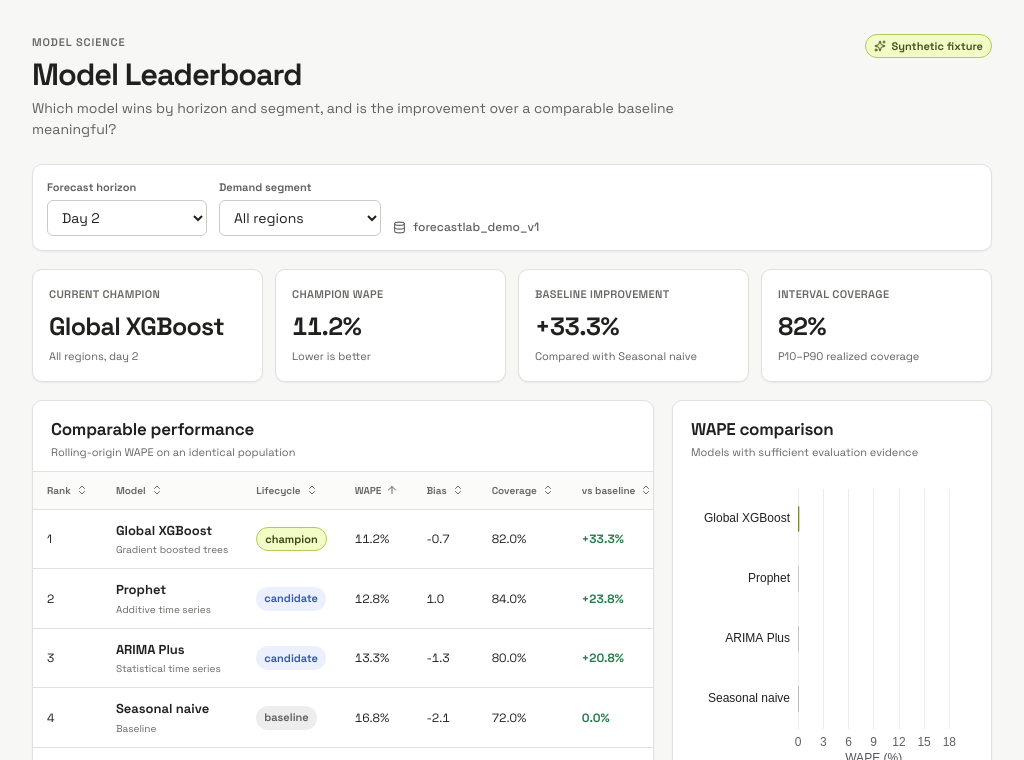
Test: ModelLeaderboardPage › stores filter changes in the URL and refreshes the evidence
The image size is (1024, 760).
Select "Day 4" in the dropdown labelled "Forecast horizon" at [127, 218], box [47,200,207,236]
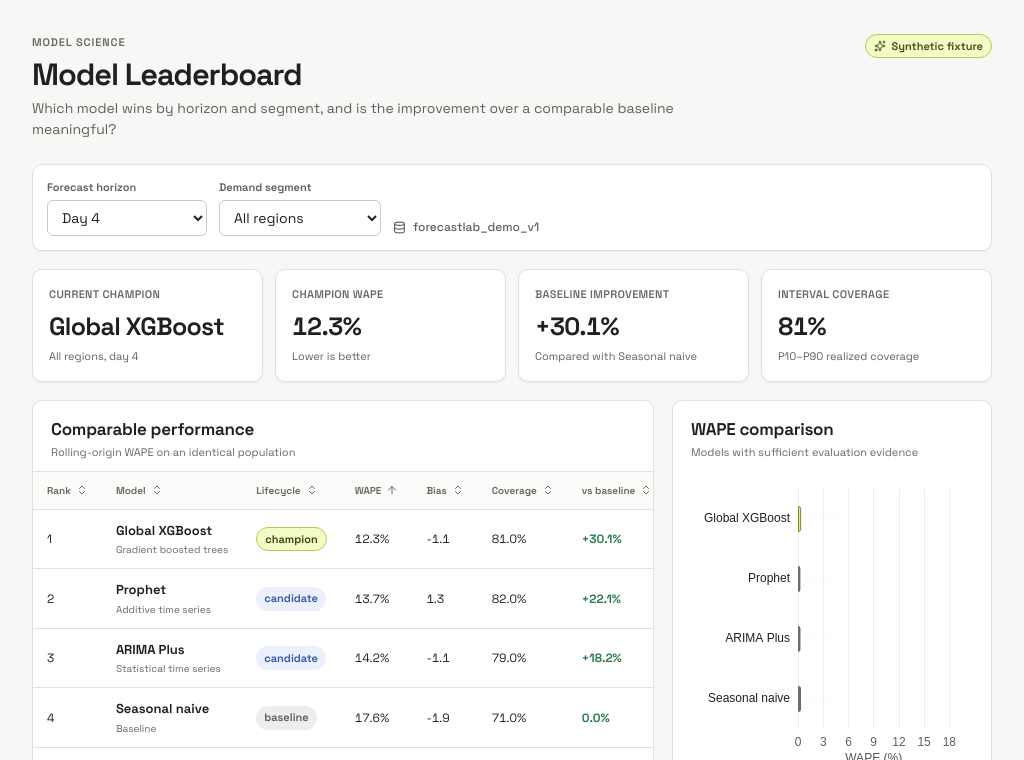
Select "Coastal region" in the dropdown labelled "Demand segment" at [300, 218], box [219,200,381,236]
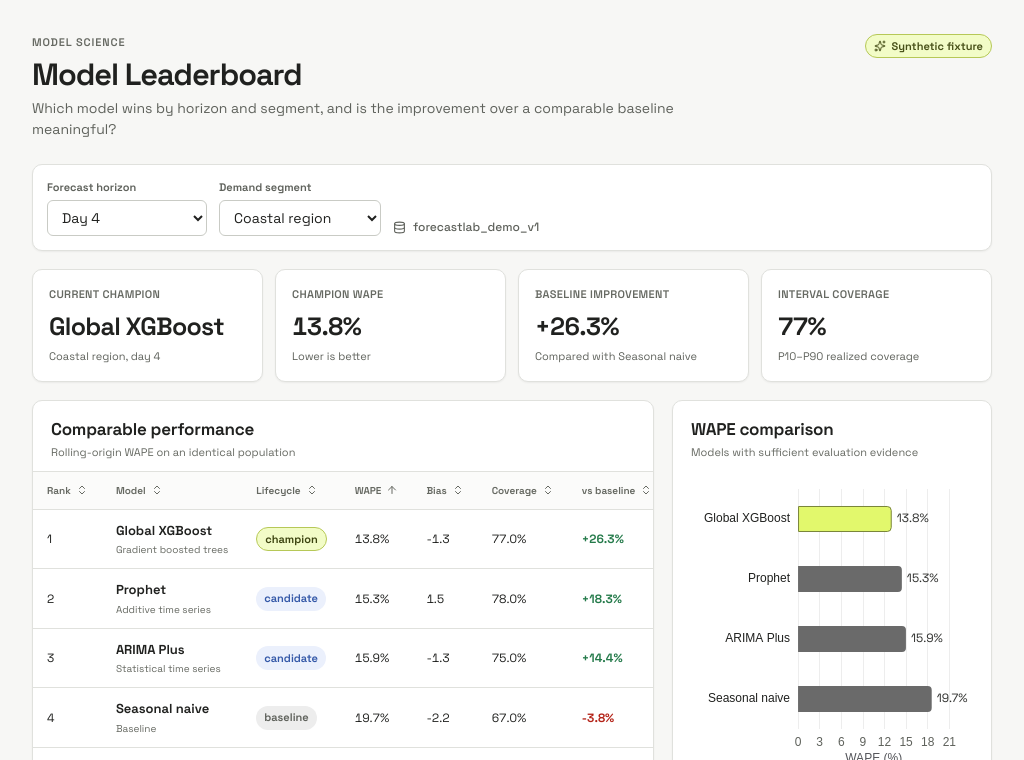
Expected: the text "Coastal region, day 4" is shown, [49,349,160,363]
